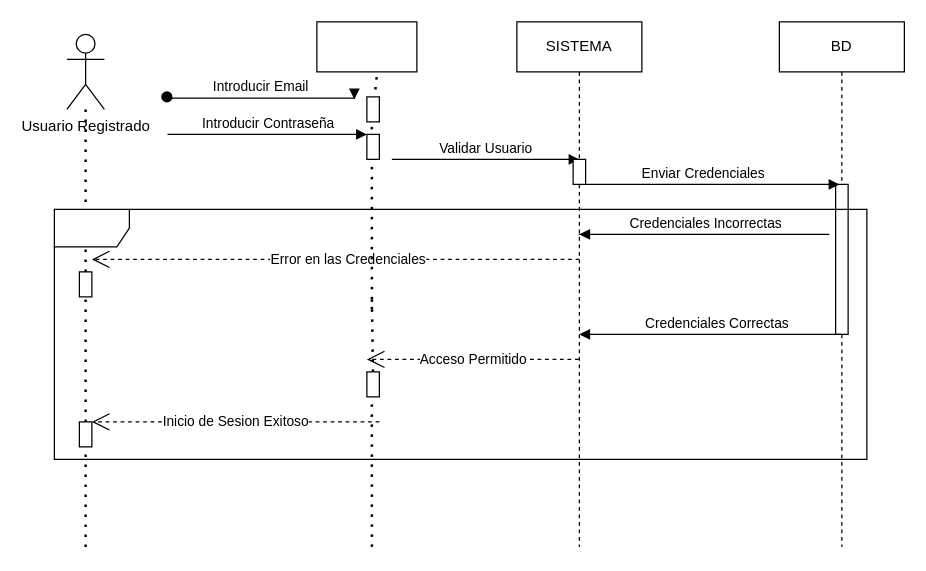
This 926x571 diagram has some shape labels left out. The centre of each missing label's shape, as x and y in pixels:
alt: the point at 460,333
Usuario: the point at 366,46
